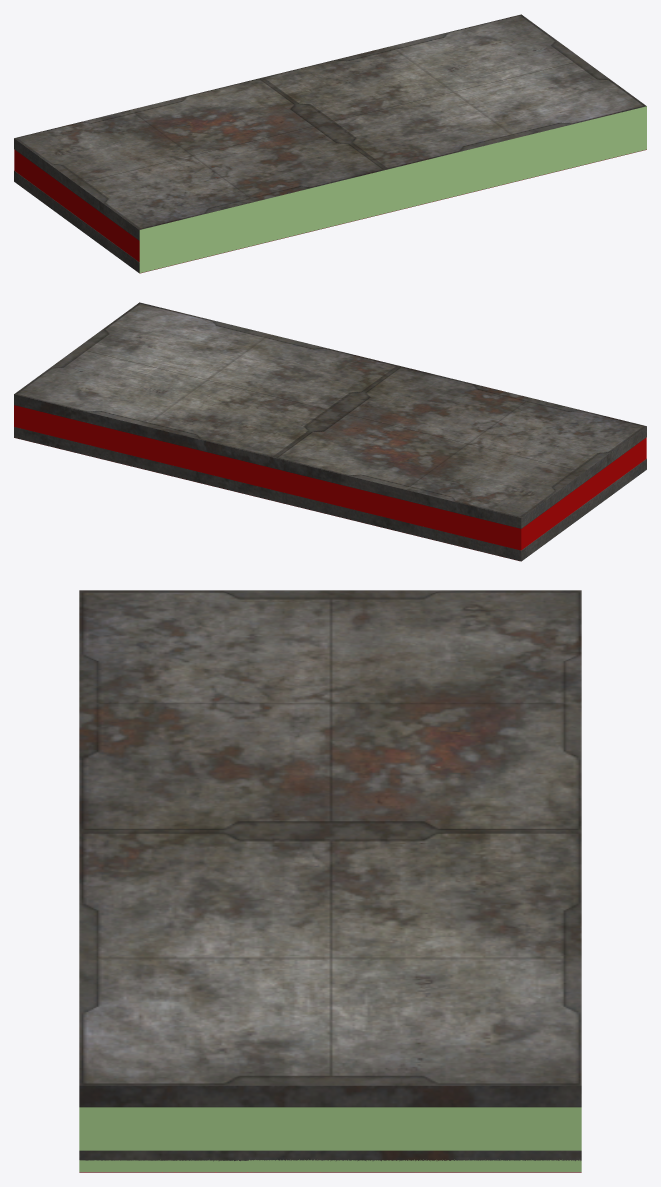
The model's file is SciFi_walkway_01.DAE.
3 views of the same model, one above another, from view 1: azimuth 30°, elevation 25°; view 2: azimuth 150°, elevation 25°; view 3: azimuth 270°, elevation 25° (orthographic). The views are drawn at different scales.
Visible parts, largest first — view 1: walkway_one, bounds, colbox-01; view 2: walkway_one, colbox-01; view 3: walkway_one, bounds.
Part boxes in pixels (bbox=[...]): walkway_one: bbox=[14, 14, 646, 273]; bounds: bbox=[139, 106, 646, 272]; colbox-01: bbox=[14, 149, 646, 273]; walkway_one: bbox=[14, 302, 646, 561]; colbox-01: bbox=[14, 405, 646, 561]; walkway_one: bbox=[79, 590, 581, 1172]; bounds: bbox=[79, 1107, 581, 1171].
Bounding box in the file's own units: 700 × 300 × 57.44.
